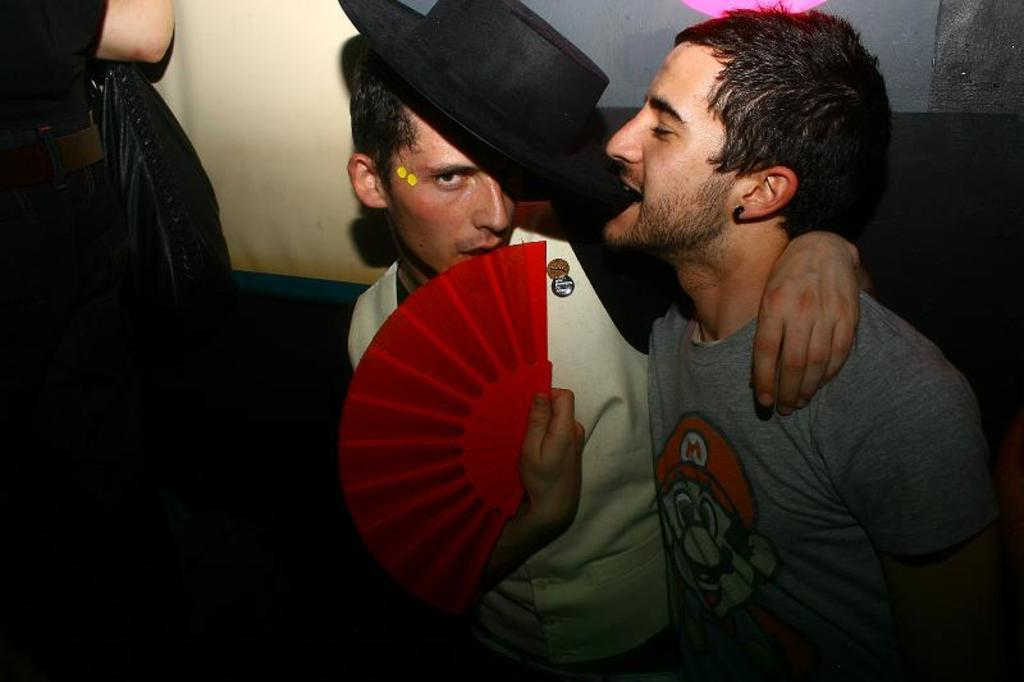Hat: (333, 0, 639, 204)
